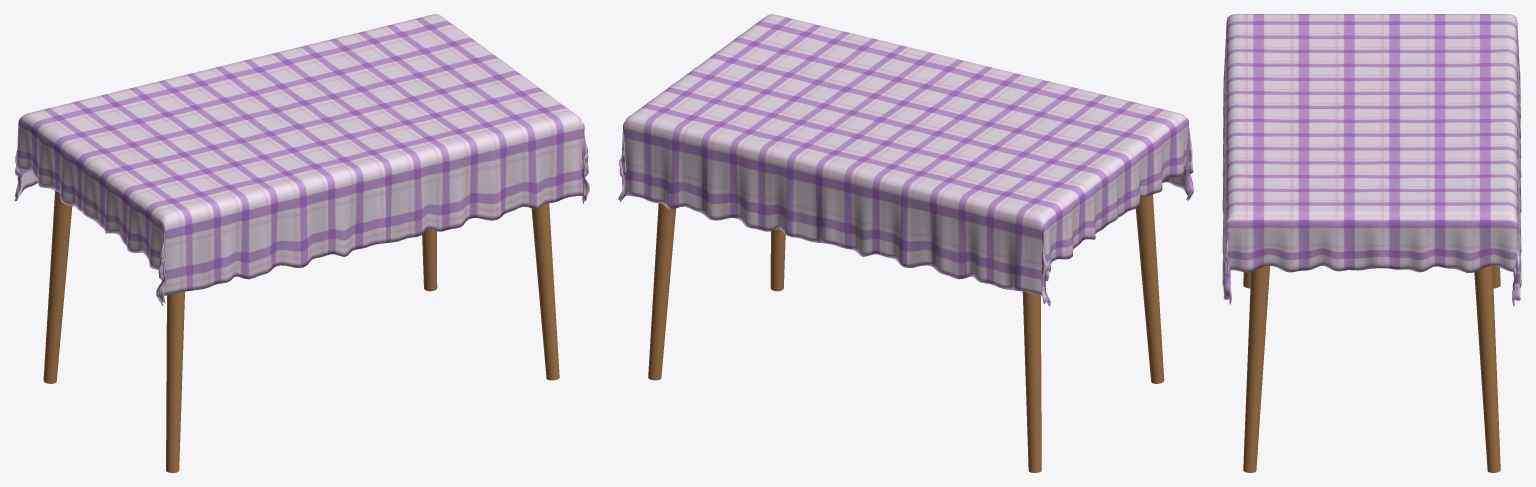
Rendered from LavenderGinghamDiningTable_1200x700x755mm.fbx.
3 renders of one model, left to right at view 1: azimuth 30°, elevation 25°; view 2: azimuth 150°, elevation 25°; view 3: azimuth 270°, elevation 25°, orthographic.
Parts seen in each view (by area): view 1: DiningTable_Tablecloth, DiningTable_LegBackLeft, DiningTable_LegFrontLeft, DiningTable_LegFrontRight, DiningTable_LegBackRight; view 2: DiningTable_Tablecloth, DiningTable_LegFrontLeft, DiningTable_LegBackLeft, DiningTable_LegBackRight, DiningTable_LegFrontRight; view 3: DiningTable_Tablecloth, DiningTable_LegFrontRight, DiningTable_LegBackRight.
Boxes of the visible parts, x1,y1,x2,y2 form: DiningTable_Tablecloth: (14,14,589,305); DiningTable_LegBackLeft: (43,191,72,383); DiningTable_LegFrontLeft: (166,291,184,472); DiningTable_LegFrontRight: (531,203,559,380); DiningTable_LegBackRight: (422,229,437,291); DiningTable_Tablecloth: (618,14,1193,306); DiningTable_LegFrontLeft: (1135,194,1164,383); DiningTable_LegBackLeft: (1022,291,1041,472); DiningTable_LegBackRight: (648,203,676,380); DiningTable_LegFrontRight: (770,229,785,291); DiningTable_Tablecloth: (1222,14,1521,306); DiningTable_LegFrontRight: (1243,266,1269,472); DiningTable_LegBackRight: (1474,266,1500,472).
Size of the model in its own units: 1.28 by 0.7546 by 0.7711.
2 materials, 1 textured.
